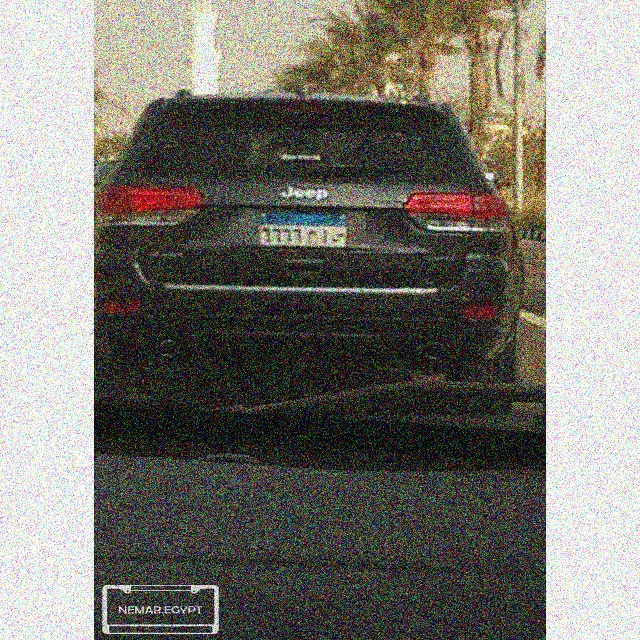License Plate: (252, 209, 352, 250)
